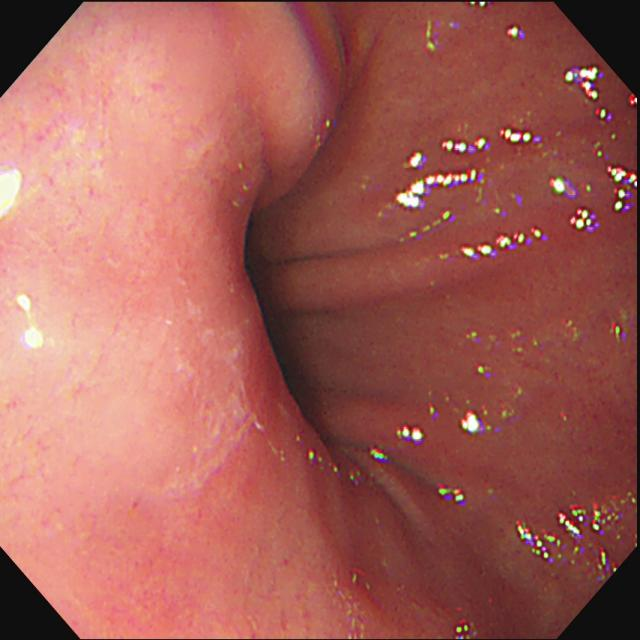I: (202, 145, 380, 508)
U: (516, 490, 637, 581), (395, 170, 485, 210), (455, 225, 547, 261), (406, 134, 490, 168), (13, 289, 49, 354), (603, 164, 639, 212), (2, 159, 27, 228), (563, 65, 604, 103), (569, 207, 604, 236), (460, 407, 492, 436), (499, 126, 538, 147), (436, 482, 469, 506), (394, 422, 427, 445), (548, 173, 577, 199), (503, 24, 529, 42)
